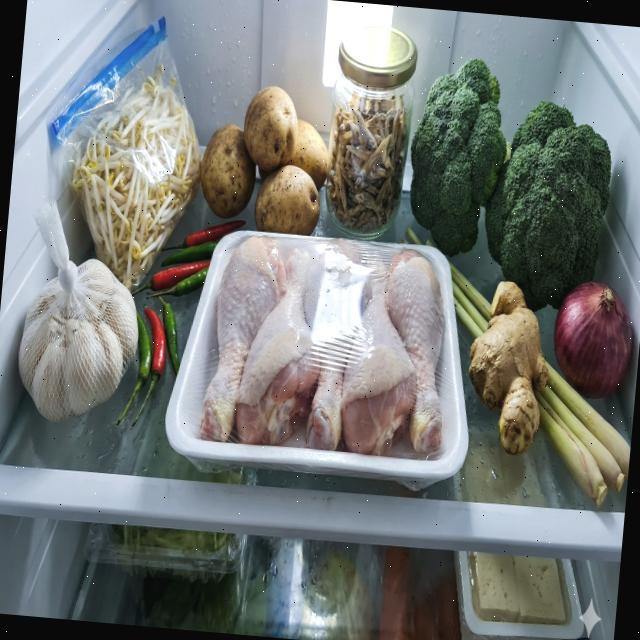anchovies: (322, 95, 413, 238)
bean_sprouts: (64, 56, 207, 294)
brocolli: (397, 52, 620, 321)
chicken: (199, 227, 457, 461)
chili: (116, 292, 184, 434), (150, 214, 237, 302)
garlic: (13, 252, 144, 428)
ginger: (465, 280, 556, 460)
lemongrass: (523, 348, 638, 514)
onion: (550, 280, 635, 406)
potato: (196, 79, 334, 237)
tofu: (463, 548, 574, 628)
